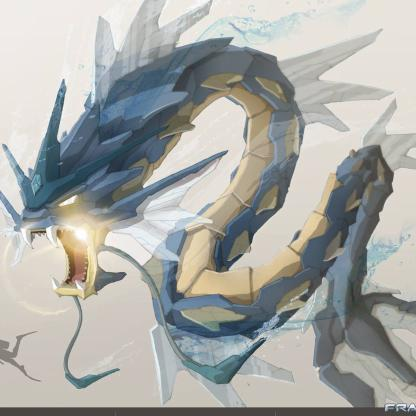Gyarados: (1, 8, 416, 416)
